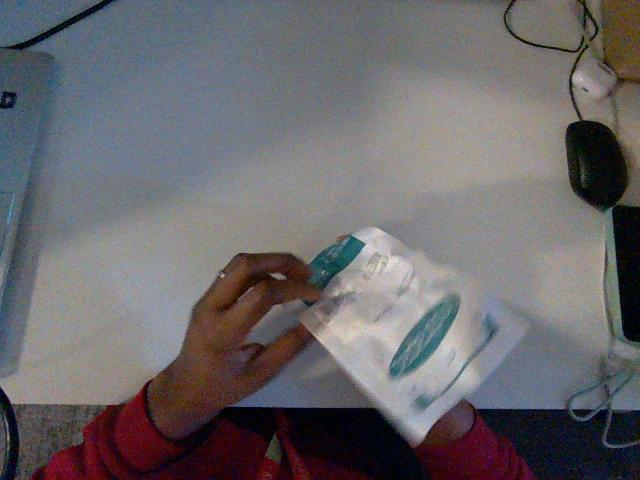gallipot: (301, 227, 526, 444)
